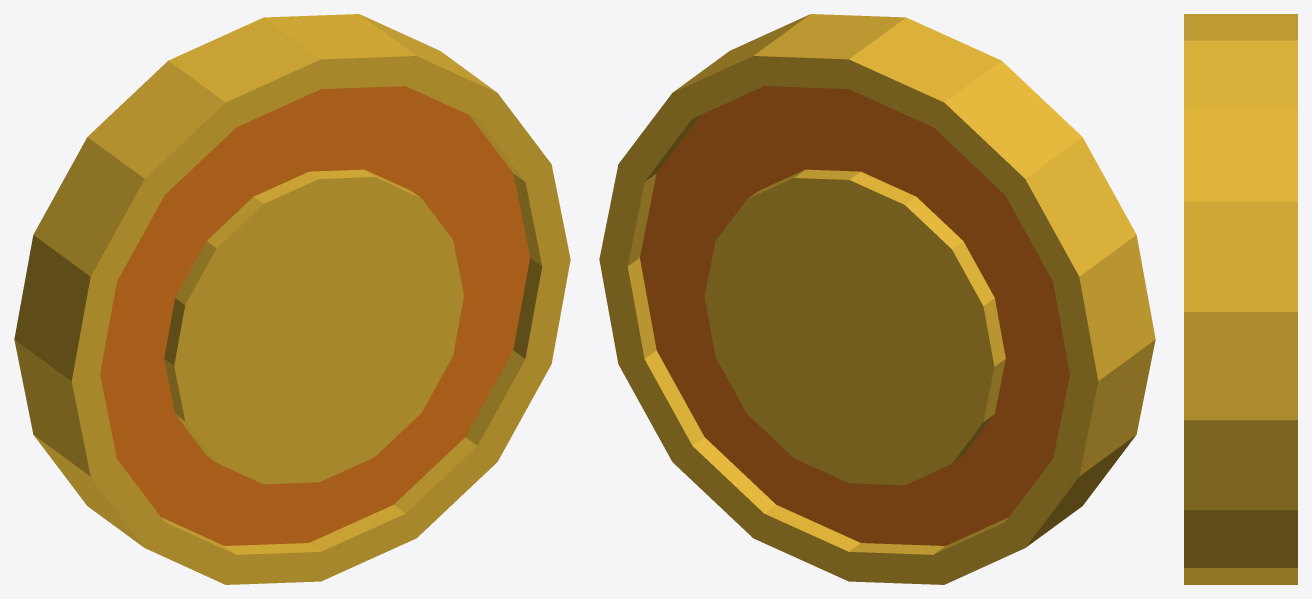
The model's file is coin03.fbx.
3 renders of one model, left to right at view 1: azimuth 30°, elevation 25°; view 2: azimuth 150°, elevation 25°; view 3: azimuth 270°, elevation 25°, orthographic.
Visible parts, largest first — view 1: Coin03; view 2: Coin03; view 3: Coin03.
Boxes of the visible parts, bbox=[...] form: Coin03: bbox=[14, 14, 570, 584]; Coin03: bbox=[599, 14, 1155, 584]; Coin03: bbox=[1184, 14, 1297, 584].
Size of the model in its own units: 84.1 by 84.1 by 16.74.
